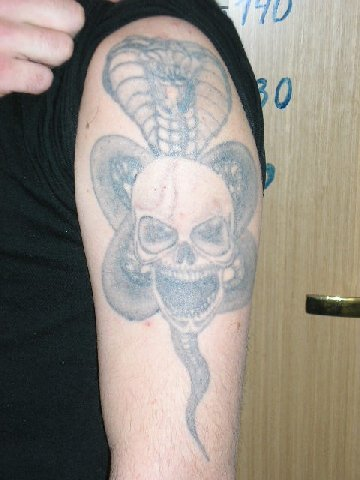tatu7_zmeya: (89, 29, 268, 459)
